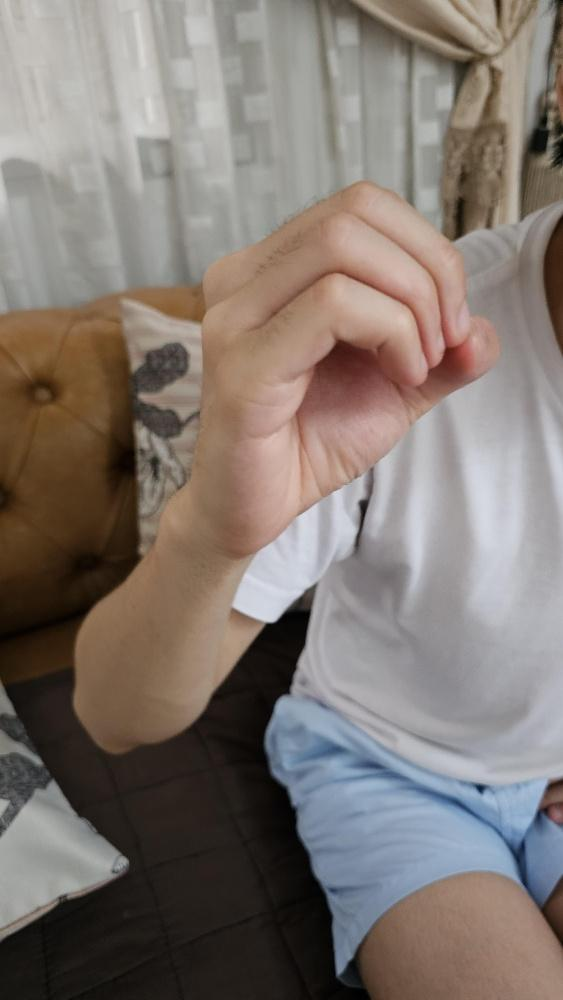o: (194, 178, 501, 558)
